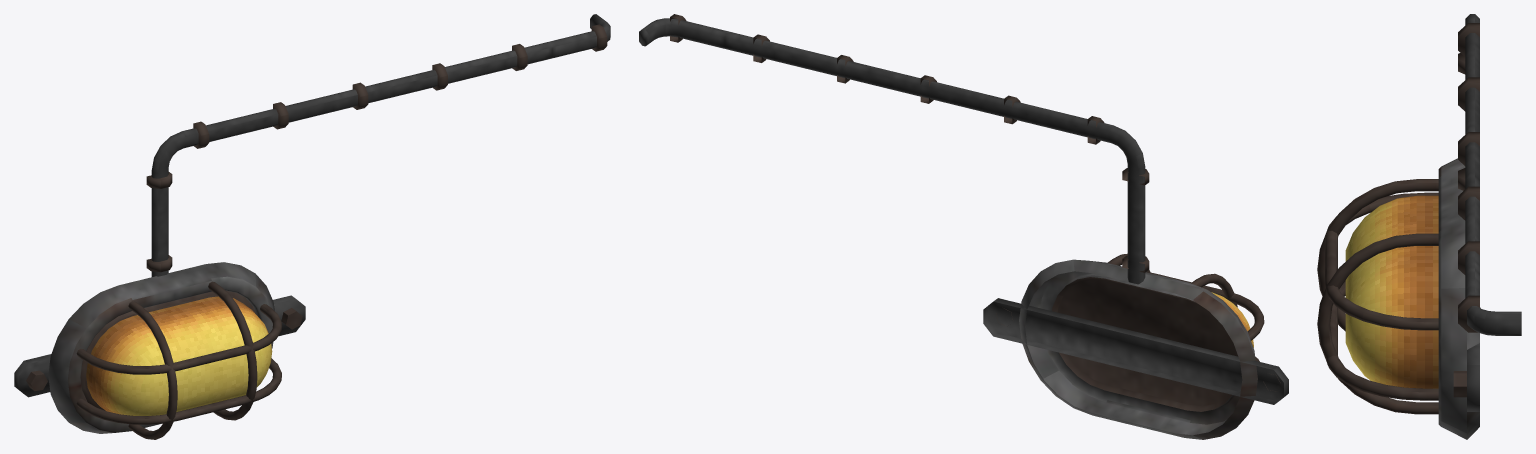
The model's file is lamp_1.obj.
3 views of the same model, side by side, from view 1: azimuth 30°, elevation 25°; view 2: azimuth 150°, elevation 25°; view 3: azimuth 270°, elevation 25° (orthographic). The views are drawn at different scales.
Parts seen in each view (by area): view 1: lamp_1; view 2: lamp_1; view 3: lamp_1.
Boxes of the visible parts, box(x1,y1,x2,y2) form: lamp_1: box(14, 14, 610, 439); lamp_1: box(639, 14, 1288, 439); lamp_1: box(1317, 14, 1521, 439).
Size of the model in its own units: 0.7532 by 0.343 by 0.1583.
